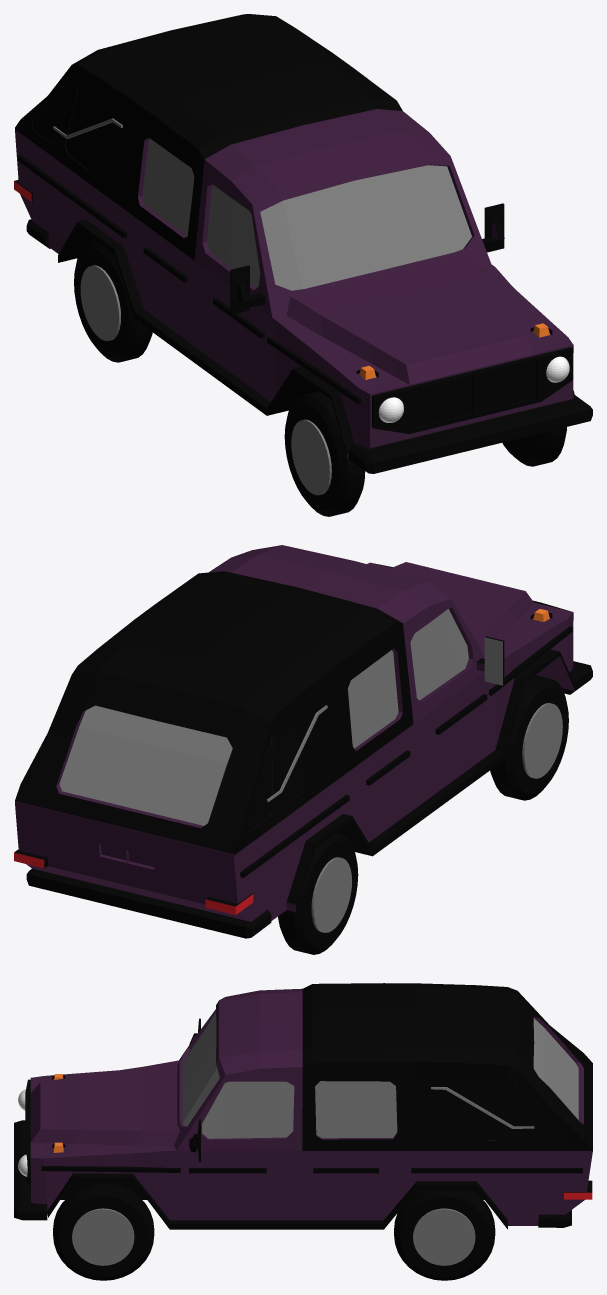
The model's file is Авто №8.fbx.
3 renders of one model, top to bottom at view 1: azimuth 30°, elevation 25°; view 2: azimuth 150°, elevation 25°; view 3: azimuth 270°, elevation 25°, orthographic. The views are drawn at different scales.
Visible parts, largest first — view 1: Cube, Cylinder.002, Cylinder.003, Cylinder; view 2: Cube, Cylinder.002, Cylinder.003; view 3: Cube, Cylinder, Cylinder.001.
Part boxes in pixels (<box>): Cube: <box>14,14,592,473</box>; Cylinder.002: <box>284,391,365,516</box>; Cylinder.003: <box>74,240,152,362</box>; Cylinder: <box>502,427,566,466</box>; Cube: <box>14,545,592,938</box>; Cylinder.002: <box>490,675,568,800</box>; Cylinder.003: <box>278,832,358,954</box>; Cube: <box>14,983,592,1229</box>; Cylinder: <box>53,1183,154,1280</box>; Cylinder.001: <box>394,1190,495,1280</box>.
Size of the model in its own units: 55.17 by 53.62 by 125.
